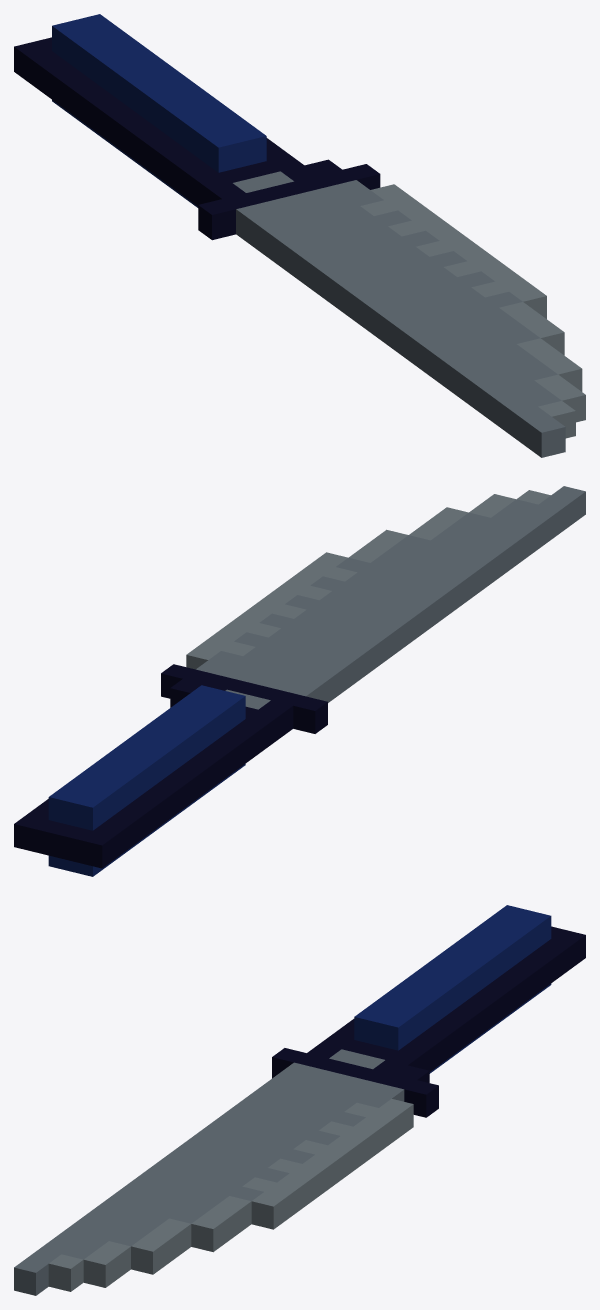
The model's file is knife.fbx.
3 renders of one model, top to bottom at view 1: azimuth 30°, elevation 25°; view 2: azimuth 150°, elevation 25°; view 3: azimuth 330°, elevation 25°, orthographic. The views are drawn at different scales.
Parts seen in each view (by area): view 1: Knife; view 2: Knife; view 3: Knife.
Part boxes in pixels (x1=…): Knife: x1=14, y1=14, x2=585, y2=457; Knife: x1=14, y1=486, x2=585, y2=876; Knife: x1=14, y1=905, x2=585, y2=1295.
Bounding box in the file's own units: 70 × 30 × 380.
